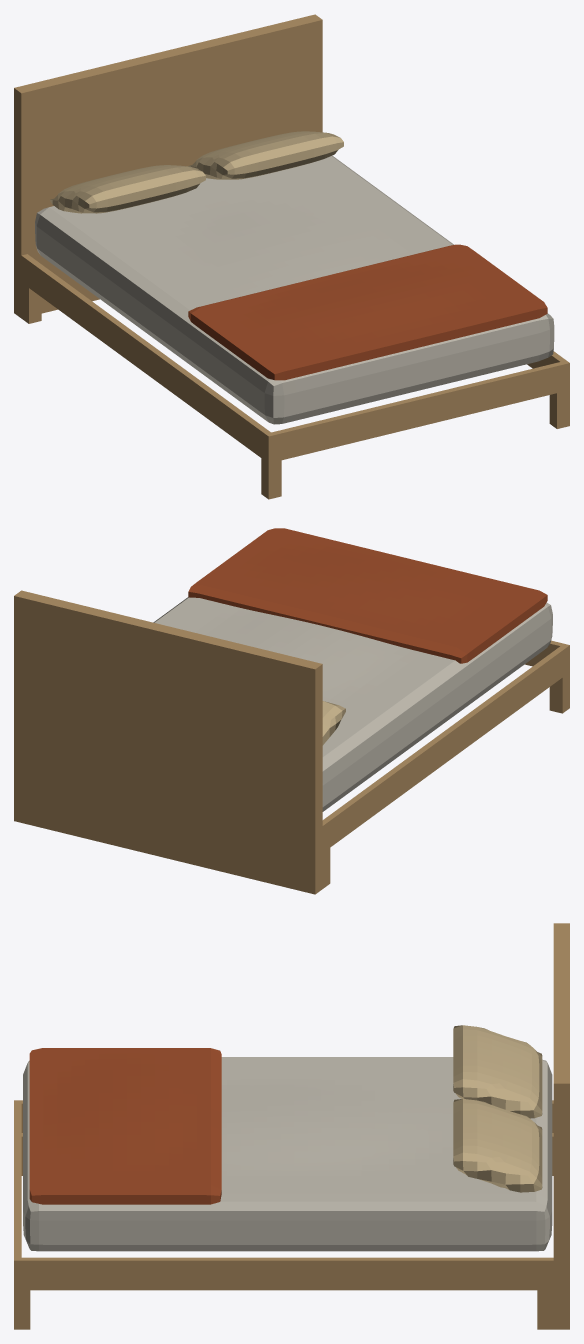
Rendered from SAB-BED-double.glb.
3 renders of one model, top to bottom at view 1: azimuth 30°, elevation 25°; view 2: azimuth 150°, elevation 25°; view 3: azimuth 270°, elevation 25°, orthographic. The views are drawn at different scales.
Parts seen in each view (by area): view 1: mattress:pbr, head:pbr, throw:pbr, foot:pbr, rail-l:pbr, pillow-l:pbr, pillow-r:pbr, leg-fl:pbr, leg-fr:pbr, leg-hl:pbr; view 2: head:pbr, throw:pbr, mattress:pbr, rail-l:pbr, leg-fl:pbr, pillow-l:pbr; view 3: mattress:pbr, throw:pbr, rail-r:pbr, head:pbr, pillow-r:pbr, pillow-l:pbr, foot:pbr, leg-hr:pbr, leg-fr:pbr.
Part boxes in pixels (x1,y1,x2,y2): mattress:pbr: (35,155,554,424); head:pbr: (14,14,322,317); throw:pbr: (188,244,547,380); foot:pbr: (271,362,563,461); rail-l:pbr: (21,254,274,463); pillow-l:pbr: (50,165,205,213); pillow-r:pbr: (188,131,343,179); leg-fl:pbr: (261,458,281,499); leg-fr:pbr: (549,390,569,428); leg-hl:pbr: (21,283,41,323); head:pbr: (14,590,322,894); throw:pbr: (188,528,547,663); mattress:pbr: (153,597,552,811); rail-l:pbr: (322,643,569,852); leg-fl:pbr: (549,672,569,713); pillow-l:pbr: (322,701,345,745); mattress:pbr: (23,1057,552,1251); throw:pbr: (29,1048,221,1204); rail-r:pbr: (14,1257,553,1290); head:pbr: (553,923,569,1329); pillow-r:pbr: (453,1099,542,1192); pillow-l:pbr: (453,1025,542,1118); foot:pbr: (14,1103,21,1257); leg-hr:pbr: (537,1290,553,1329); leg-fr:pbr: (14,1290,30,1329).
Bounding box in the file's own units: 1.4 × 1 × 2.05.
